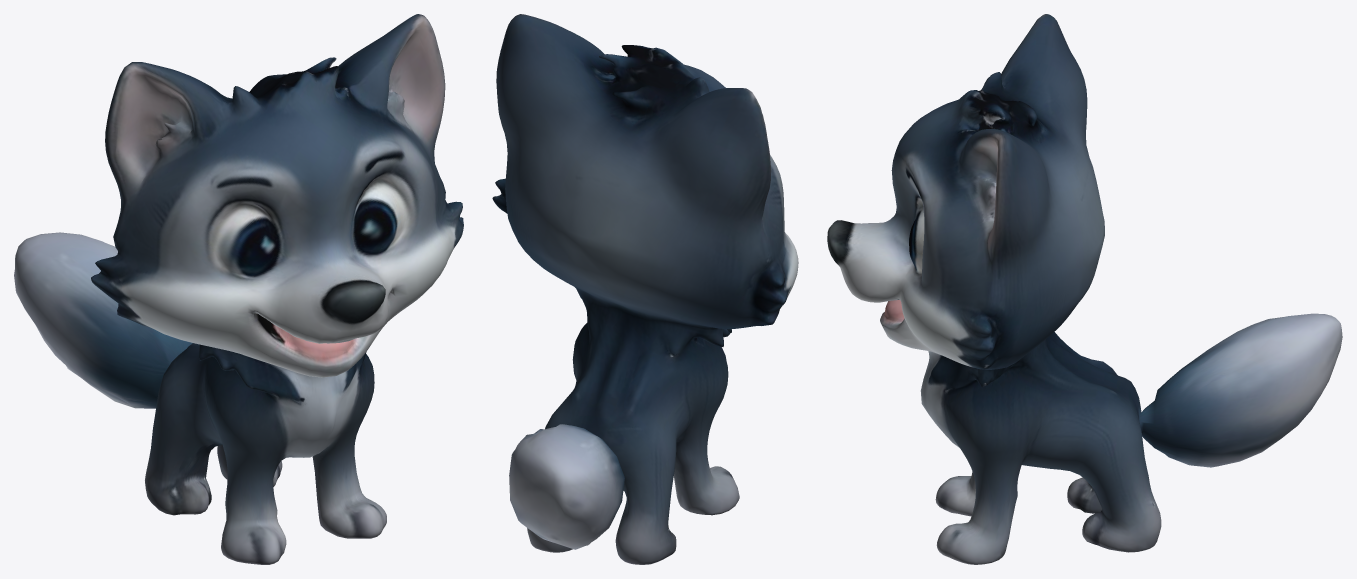
The model's file is fox.glb.
3 renders of one model, left to right at view 1: azimuth 30°, elevation 25°; view 2: azimuth 150°, elevation 25°; view 3: azimuth 270°, elevation 25°, orthographic. The views are drawn at different scales.
Visible parts, largest first — view 1: Fox; view 2: Fox; view 3: Fox.
Part boxes in pixels (x1=…): Fox: x1=14, y1=14, x2=463, y2=564; Fox: x1=492, y1=14, x2=798, y2=564; Fox: x1=827, y1=14, x2=1342, y2=564.
Bounding box in the file's own units: 1.46 × 1.99 × 2.03.
Materials: 1 (1 with a texture image).
